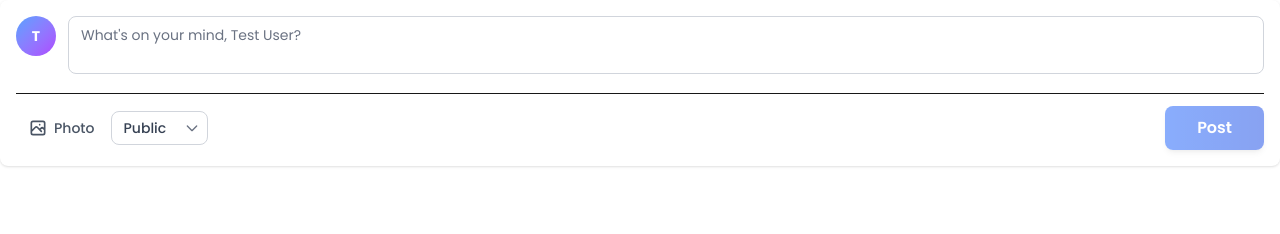
CreatePostForm Component › should show error message on submission failure
In the text box: x=666, y=45 x1=68 y1=16 x2=1264 y2=74, type "My new post"
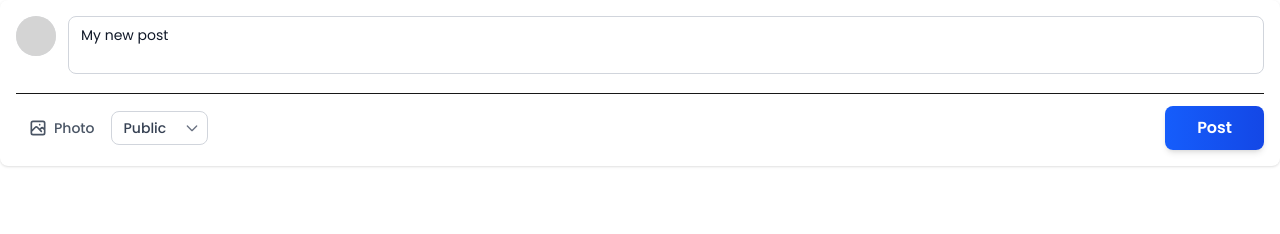
Click the button "Post": x=1215, y=128 x1=1165 y1=106 x2=1264 y2=150
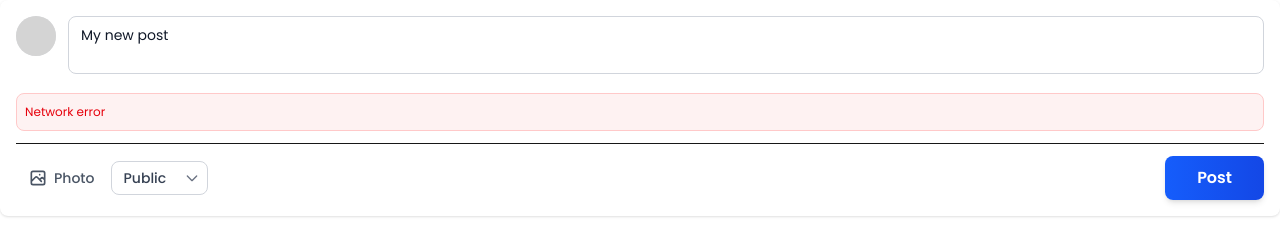
Check: the text "Network error" is shown, box x1=25 y1=103 x2=105 y2=120
